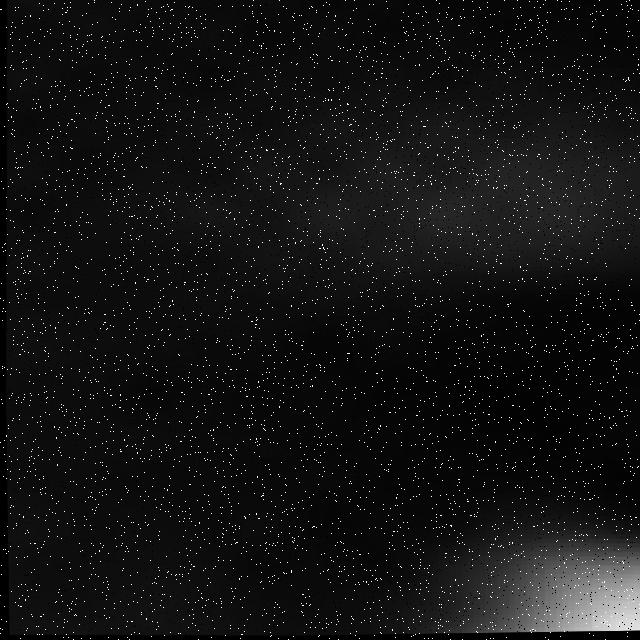person: (416, 506, 640, 636)
